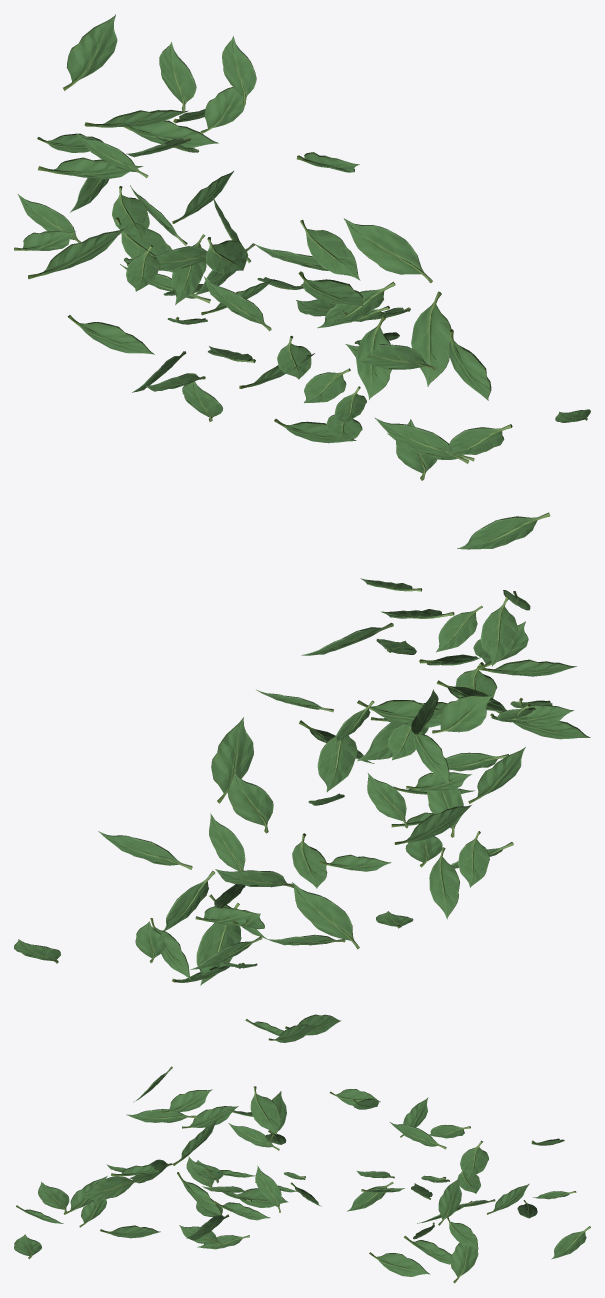
Rendered from holy_canopy6_full.glb.
The picture shows the model from 3 angles, top to bottom: view 1: azimuth 30°, elevation 25°; view 2: azimuth 150°, elevation 25°; view 3: azimuth 270°, elevation 25°; orthographic projection. The views are drawn at different scales.
Parts seen in each view (by area): view 1: holy_canopy6; view 2: holy_canopy6; view 3: holy_canopy6.
Part boxes in pixels (left/top/right/bottom): holy_canopy6: left=14, top=14, right=590, bottom=549; holy_canopy6: left=14, top=578, right=590, bottom=985; holy_canopy6: left=14, top=1014, right=590, bottom=1283.
Bounding box in the file's own units: 9.12 × 10.59 × 24.07.
1 material, 1 textured.
